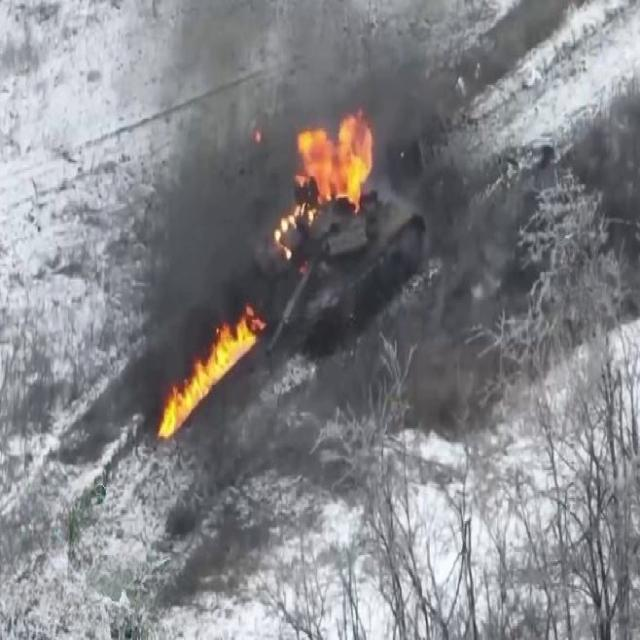Destroyed: (245, 154, 427, 352)
